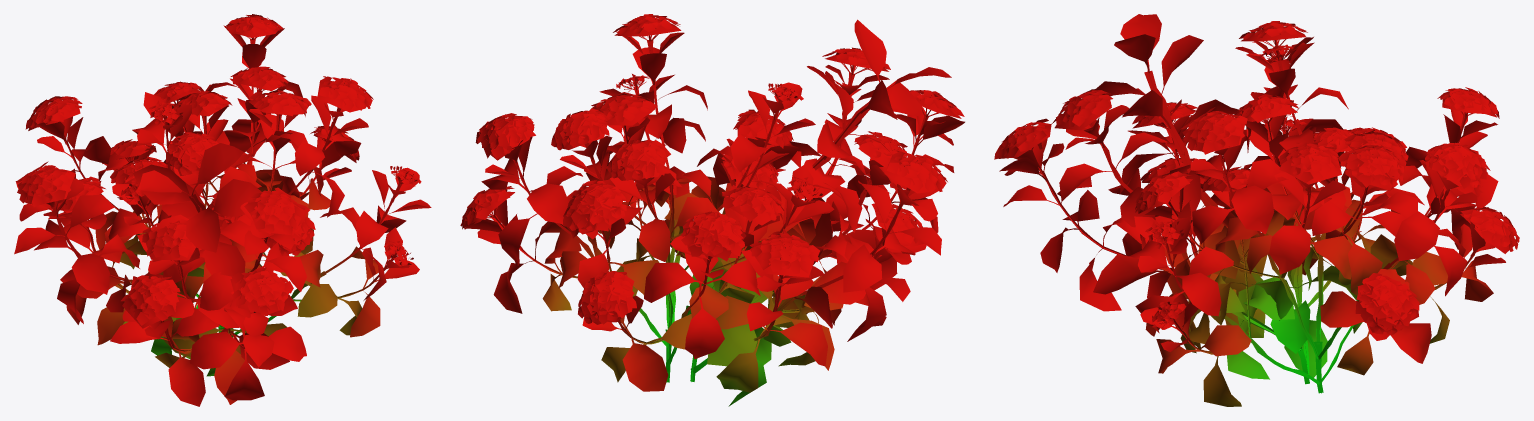
File: Var3_LOD3.fbx
The picture shows the model from 3 angles, left to right: view 1: azimuth 30°, elevation 25°; view 2: azimuth 150°, elevation 25°; view 3: azimuth 270°, elevation 25°; orthographic projection. The views are drawn at different scales.
Visible parts, largest first — view 1: _4j3z_Var3_LOD3; view 2: _4j3z_Var3_LOD3; view 3: _4j3z_Var3_LOD3.
Boxes of the visible parts, x1,y1,x2,y2 form: _4j3z_Var3_LOD3: (14, 14, 431, 406); _4j3z_Var3_LOD3: (460, 14, 964, 406); _4j3z_Var3_LOD3: (994, 14, 1519, 406).
Size of the model in its own units: 180 by 132 by 193.
